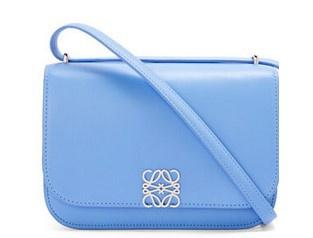LOEWE: (137, 163, 187, 216)
